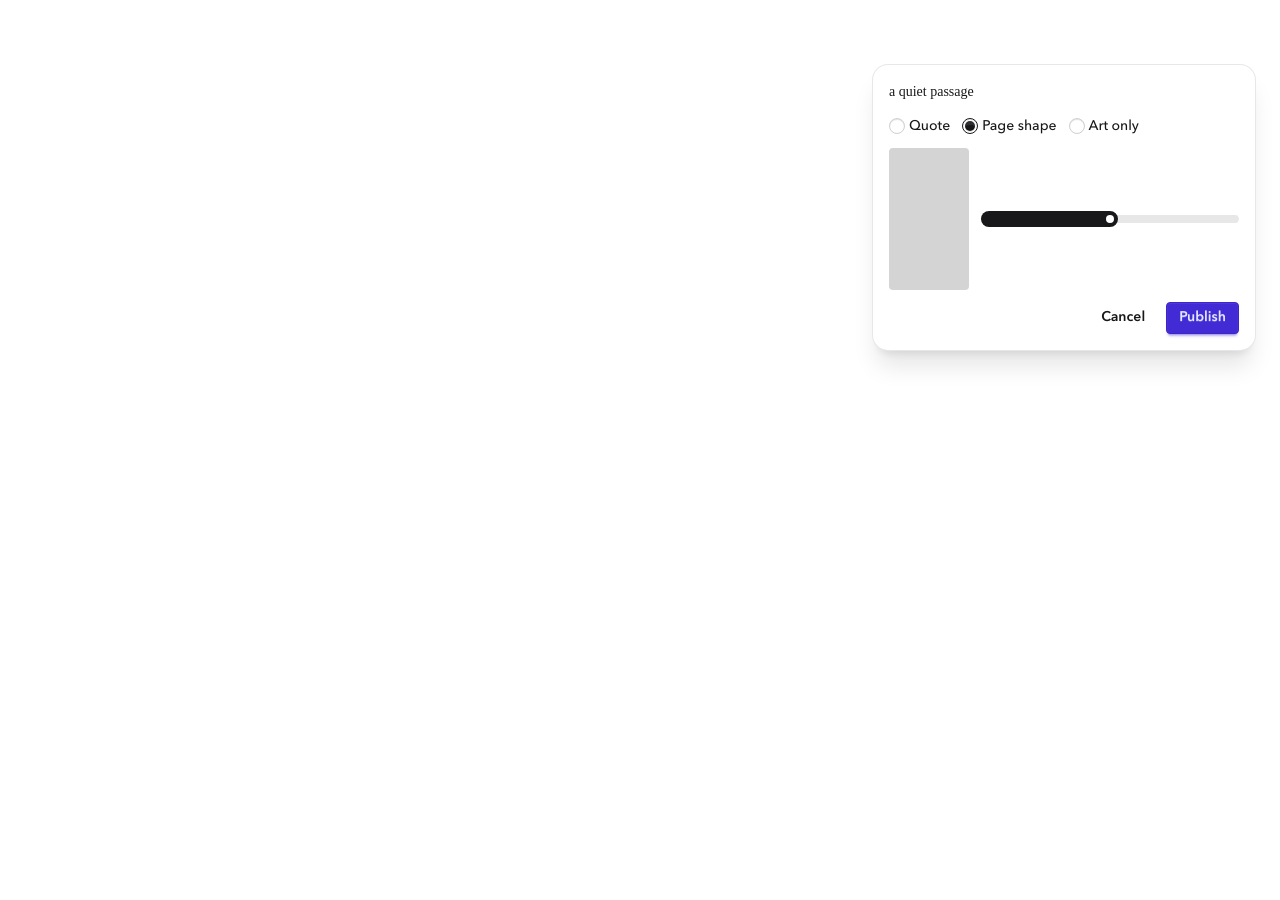
Scenario: PublishSheet › display, scene and cover › refuses an invalid scene with no Publish
Step 1. Click the button "Publish" → (1203, 318), box [1166,302,1239,334]
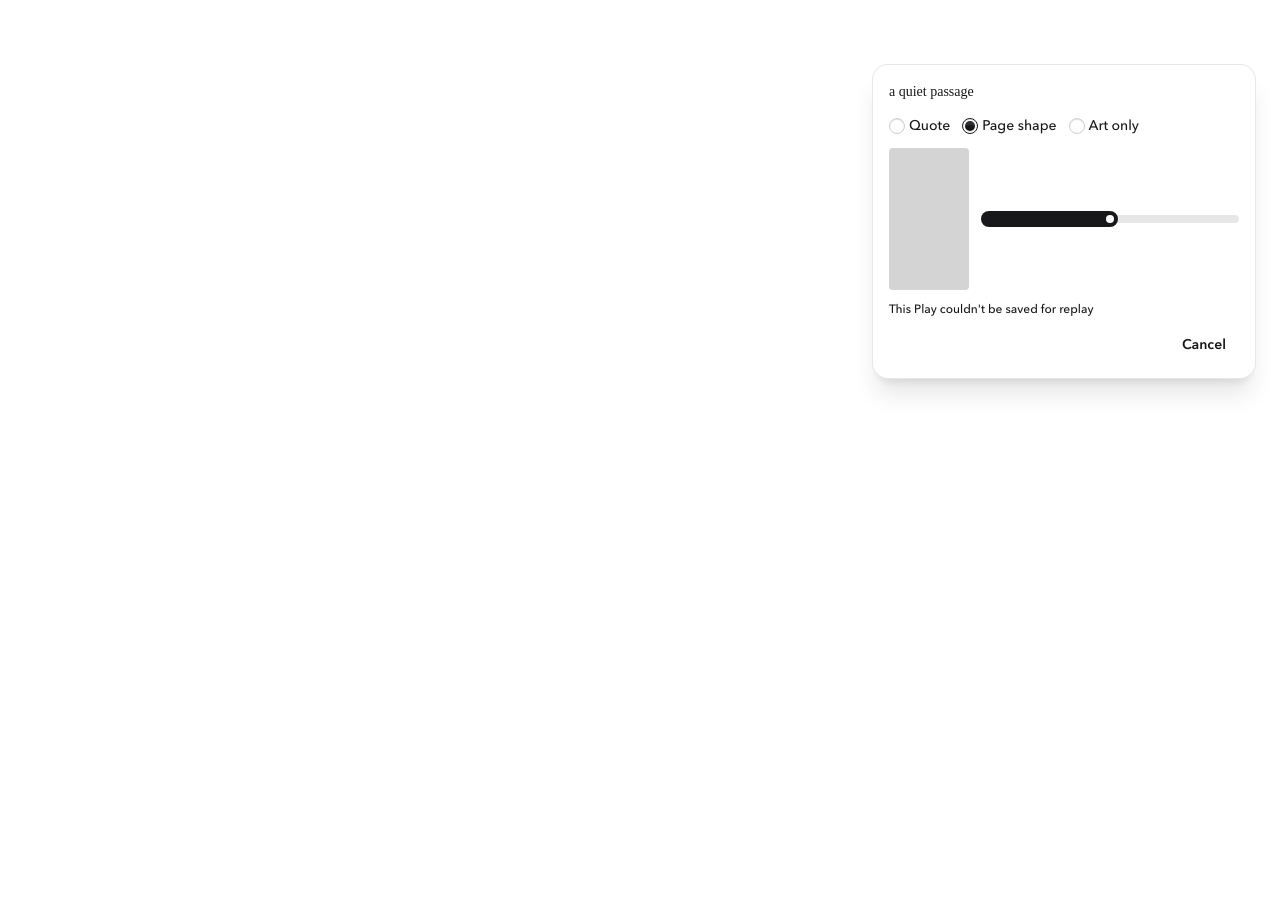
Expected: the text "This Play couldn't be saved for replay" is shown, [889,304,1094,316]
Expected: the button "Publish" is gone
